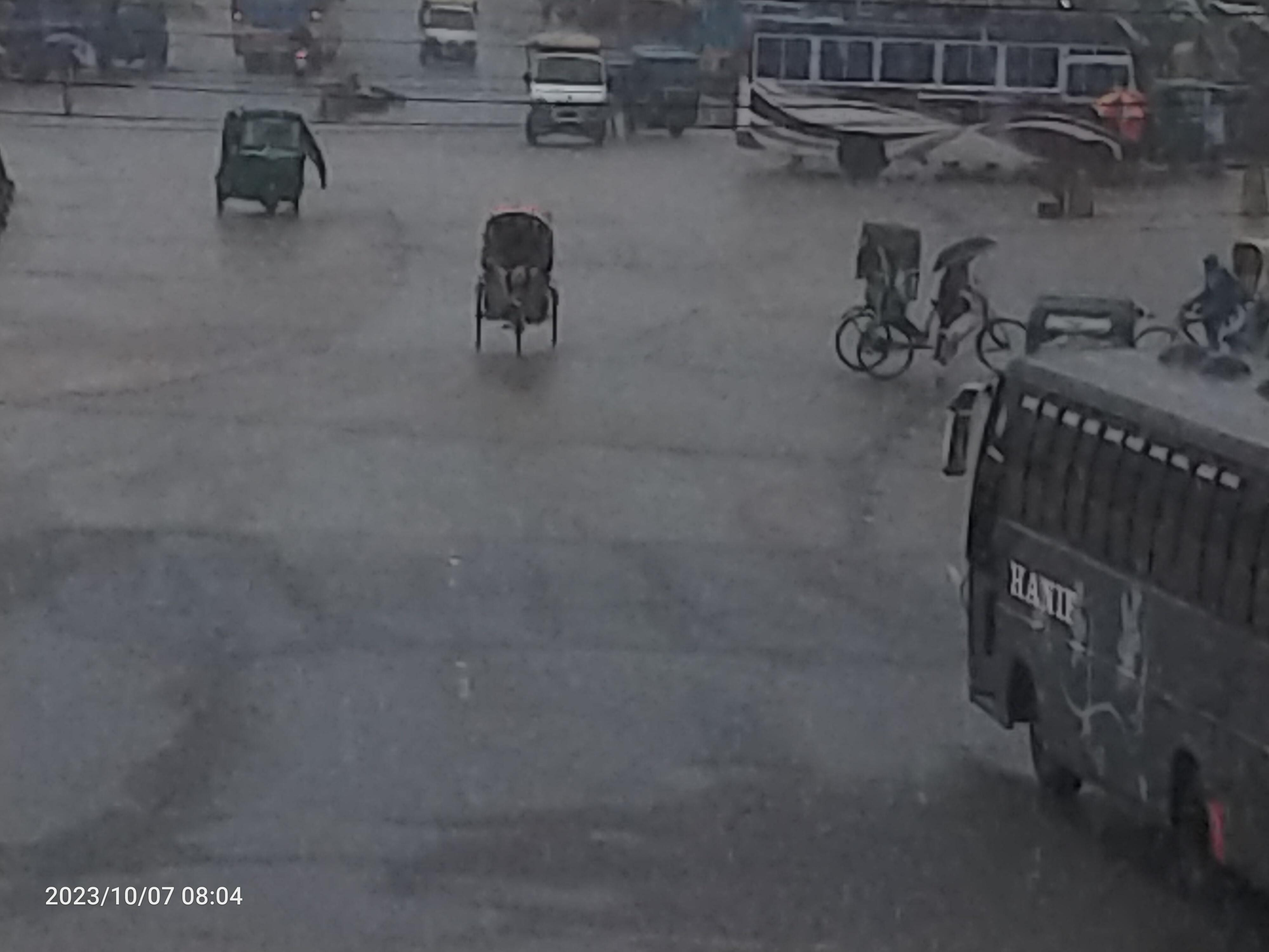Bus: (926, 321, 1269, 911), (725, 1, 1175, 222), (189, 0, 351, 74)
Car: (814, 205, 1056, 403), (440, 186, 594, 387), (503, 23, 625, 172), (1148, 226, 1269, 372), (400, 3, 497, 69)
